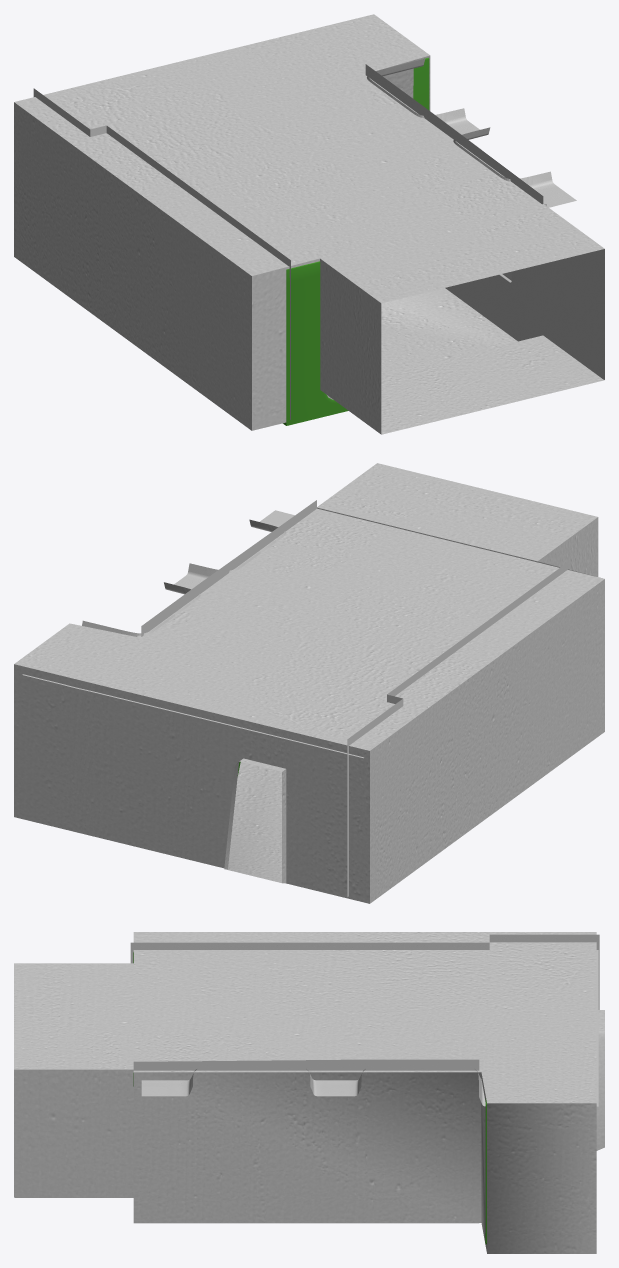
File: Wall_Z.FBX
3 renders of one model, top to bottom at view 1: azimuth 30°, elevation 25°; view 2: azimuth 150°, elevation 25°; view 3: azimuth 270°, elevation 25°, orthographic. The views are drawn at different scales.
Visible parts, largest first — view 1: WallA, Wall_AZ, 67_A, Wall_dingA, Wallzz; view 2: WallA, Wall_dingA, Wallzz, Wall_AZ; view 3: WallA, Wall_AZ, Wallzz, Wall_dingA.
Boxes of the visible parts, <box> form: WallA: <box>14,14,604,434</box>; Wall_AZ: <box>365,64,603,379</box>; 67_A: <box>283,57,429,425</box>; Wall_dingA: <box>367,59,576,207</box>; Wallzz: <box>33,88,290,419</box>; WallA: <box>14,463,604,903</box>; Wall_dingA: <box>22,510,363,758</box>; Wallzz: <box>347,561,569,896</box>; Wall_AZ: <box>141,500,316,636</box>; WallA: <box>14,932,604,1253</box>; Wall_AZ: <box>15,1059,479,1223</box>; Wallzz: <box>130,934,599,1009</box>; Wall_dingA: <box>141,950,598,1106</box>.
Bounding box in the file's own units: 7819 × 3514 × 11415.
